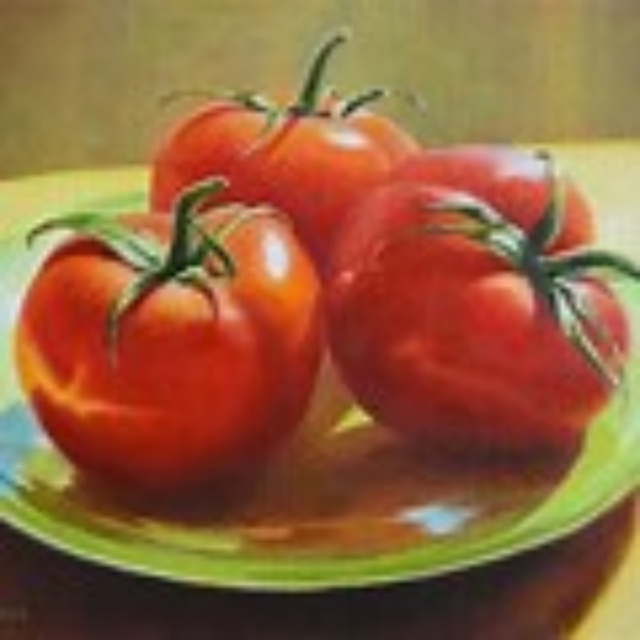tomato: (322, 140, 631, 444), (18, 212, 333, 486), (160, 73, 417, 259)
